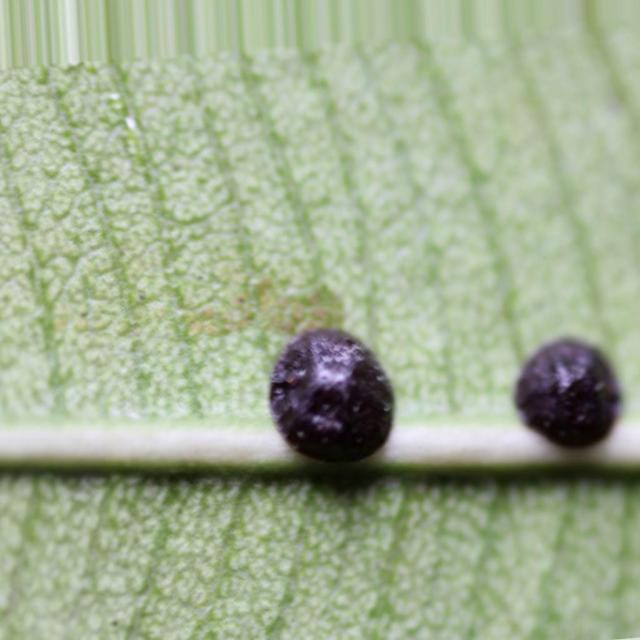BlackScale: (270, 328, 394, 459), (514, 338, 622, 446)
